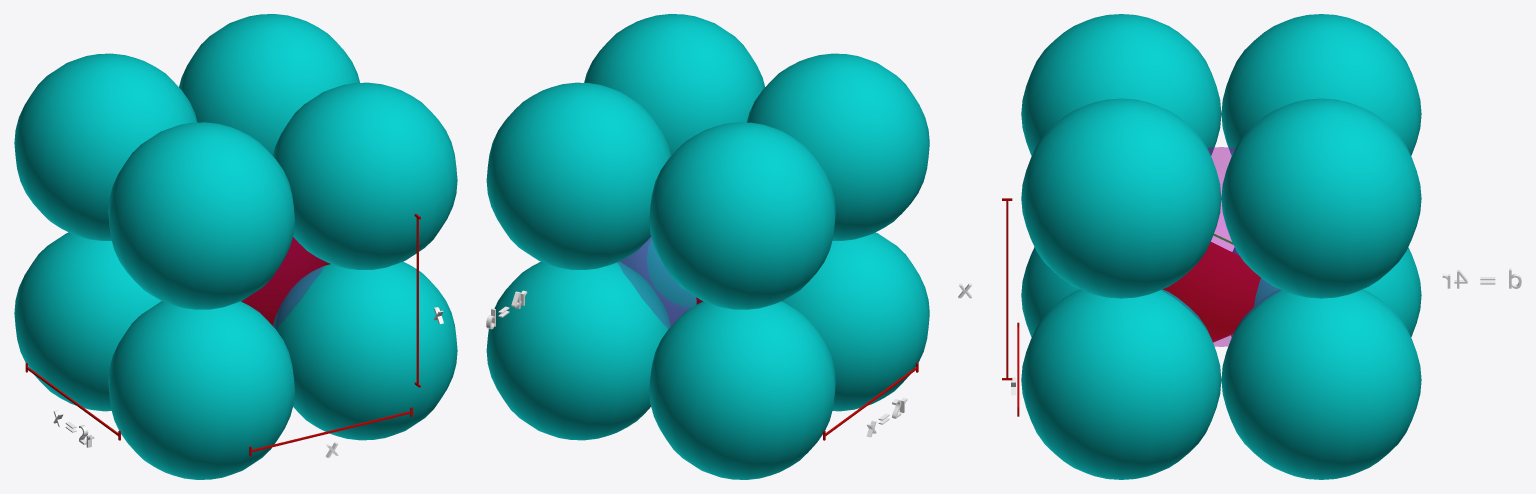
Rendered from BCCFE_centrado.glb.
The picture shows the model from 3 angles, left to right: view 1: azimuth 30°, elevation 25°; view 2: azimuth 150°, elevation 25°; view 3: azimuth 270°, elevation 25°; orthographic projection. The views are drawn at different scales.
Parts seen in each view (by area): view 1: typeMesh7; view 2: typeMesh7; view 3: typeMesh7.
Boxes of the visible parts, bbox=[...] form: typeMesh7: bbox=[14, 14, 457, 479]; typeMesh7: bbox=[486, 14, 929, 479]; typeMesh7: bbox=[958, 14, 1521, 479].
Bounding box in the file's own units: 2.06 × 2 × 2.81.
